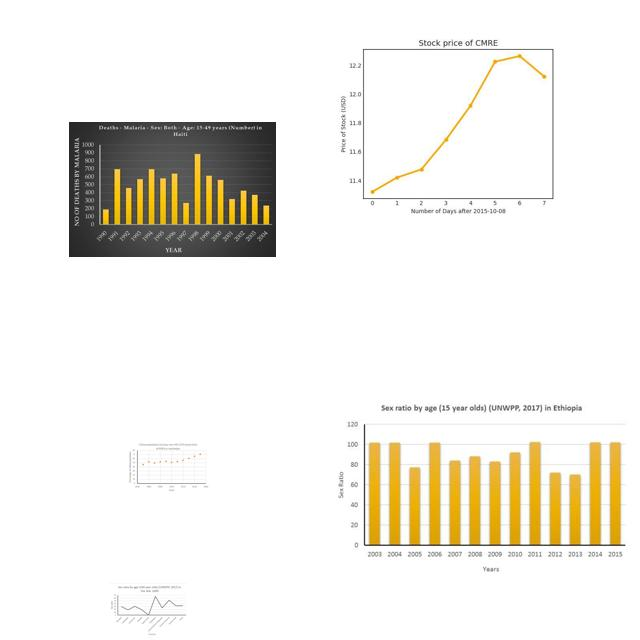Graph: (328, 398, 639, 581), (326, 26, 584, 220), (69, 122, 276, 257), (127, 442, 210, 492), (109, 583, 187, 636)
